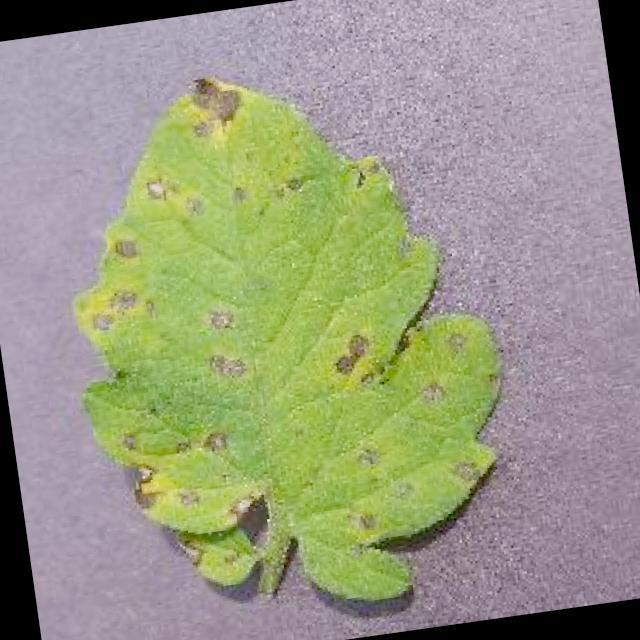Tomato Septoria spot leaf: (37, 41, 537, 640)
